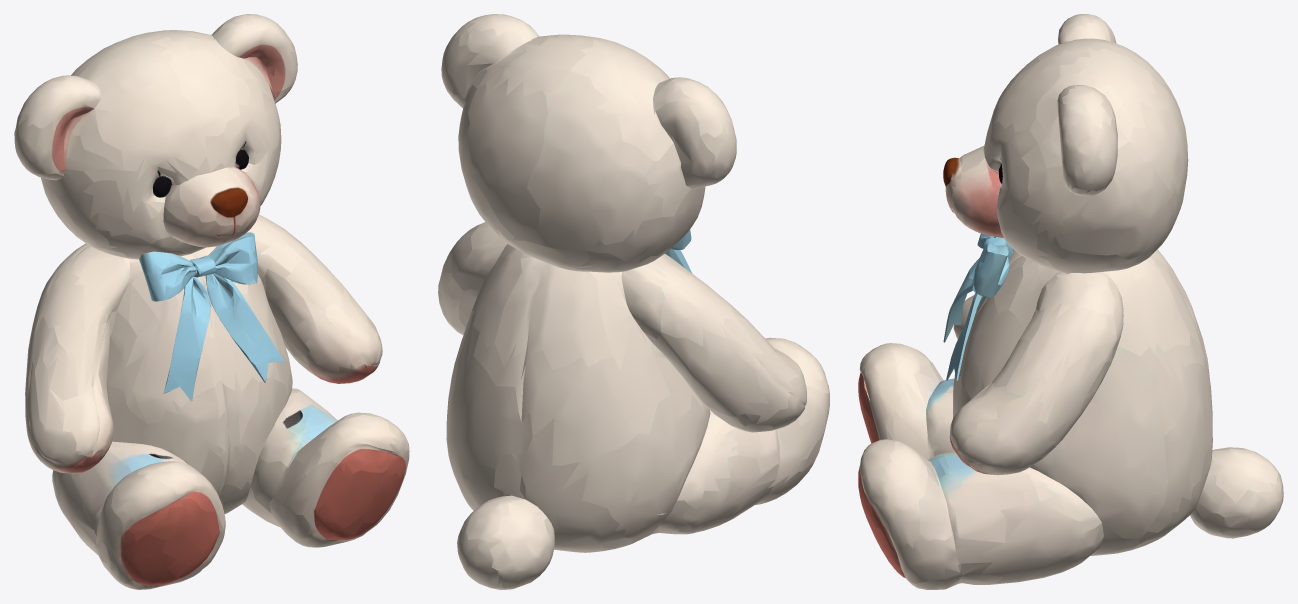
File: teddy.glb
The picture shows the model from 3 angles, left to right: view 1: azimuth 30°, elevation 25°; view 2: azimuth 150°, elevation 25°; view 3: azimuth 270°, elevation 25°; orthographic projection. The views are drawn at different scales.
Size of the model in its own units: 0.7563 by 1 by 0.7956.
1 material, 1 textured.
